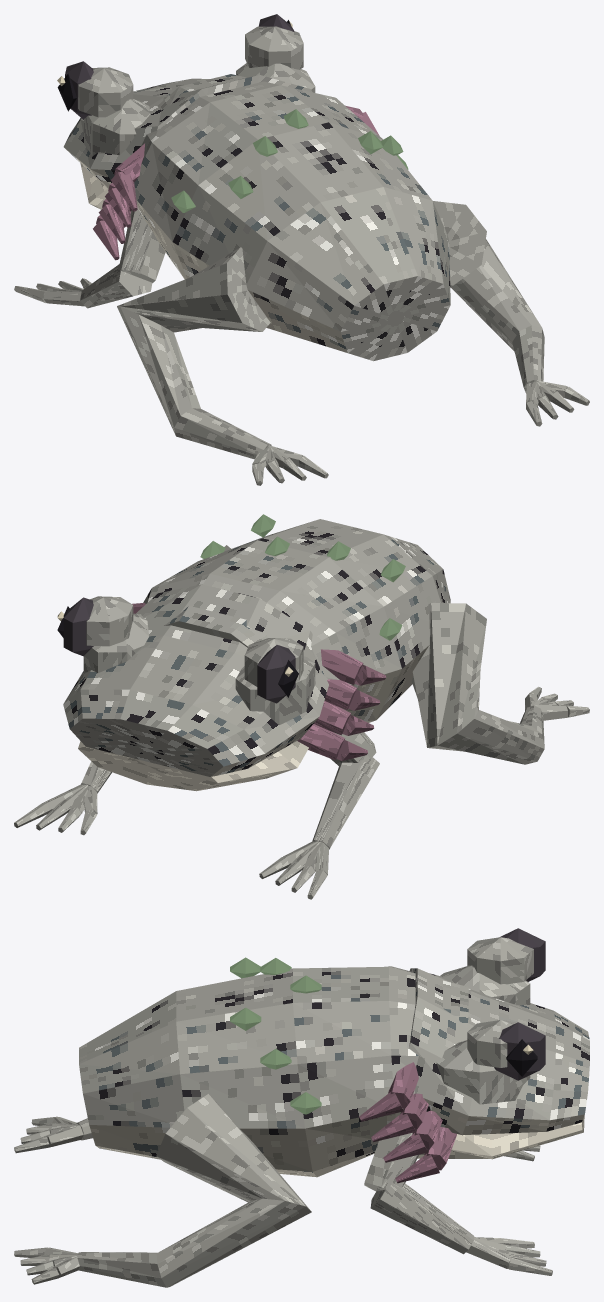
The model's file is mon_pattern_bigfrog.glb.
The picture shows the model from 3 angles, top to bottom: view 1: azimuth 30°, elevation 25°; view 2: azimuth 150°, elevation 25°; view 3: azimuth 270°, elevation 25°; orthographic projection.
Visible parts, largest first — view 1: closed_body (×2); view 2: closed_body (×2); view 3: closed_body (×2).
Boxes of the visible parts, bbox=[...] form: closed_body (×2): bbox=[14, 14, 589, 485]; closed_body (×2): bbox=[14, 514, 589, 899]; closed_body (×2): bbox=[14, 928, 589, 1287].
Size of the model in its own units: 0.6964 by 0.4224 by 0.9411.
Materials: 2 (2 with a texture image).
